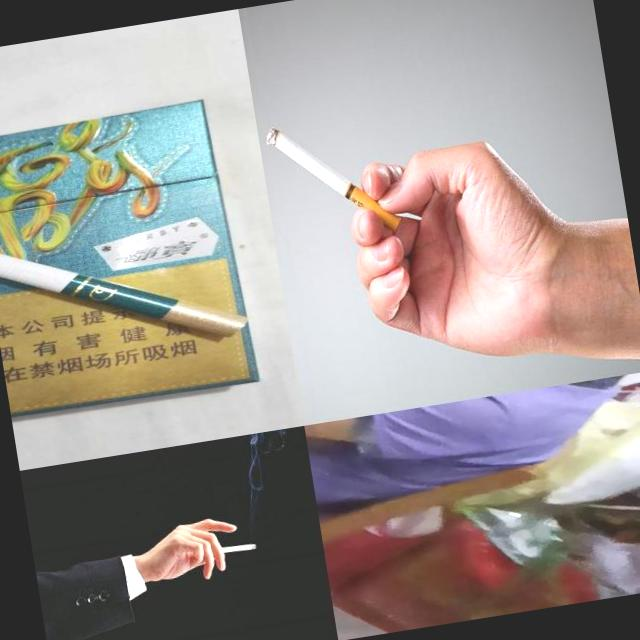cigarette: (266, 82, 586, 394), (0, 152, 254, 374), (130, 503, 264, 591)
